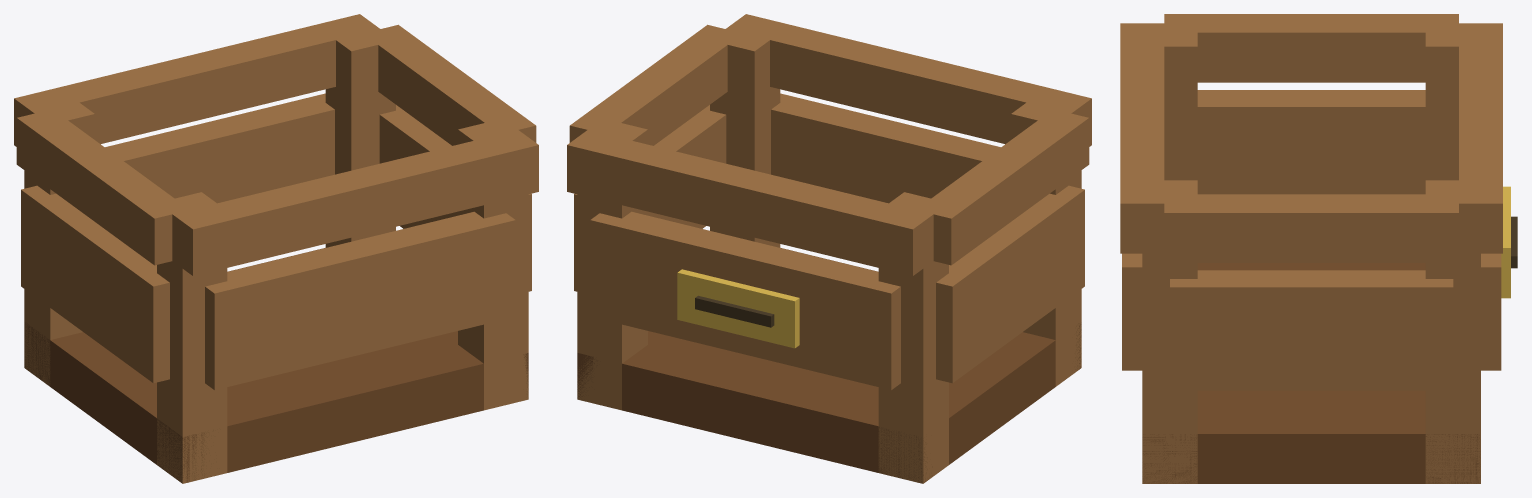
The model's file is HomebaseWoodCrateSmall_LOD00.gltf.
3 renders of one model, left to right at view 1: azimuth 30°, elevation 25°; view 2: azimuth 150°, elevation 25°; view 3: azimuth 270°, elevation 25°, orthographic. The views are drawn at different scales.
Parts seen in each view (by area): view 1: HomebaseWoodCrateSmall_node; view 2: HomebaseWoodCrateSmall_node; view 3: HomebaseWoodCrateSmall_node.
Boxes of the visible parts, x1,y1,x2,y2 form: HomebaseWoodCrateSmall_node: (14,14,538,483); HomebaseWoodCrateSmall_node: (567,14,1091,483); HomebaseWoodCrateSmall_node: (1120,14,1517,483).
Size of the model in its own units: 0.64 by 0.42 by 0.54.
